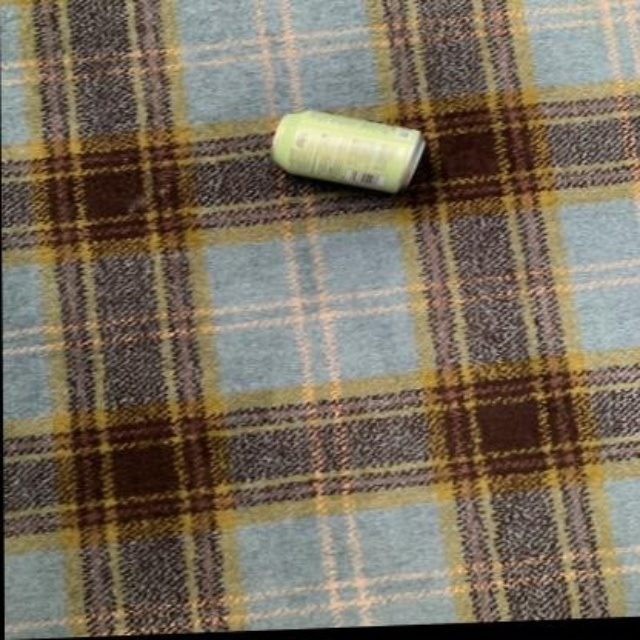trash: (272, 111, 423, 192)
